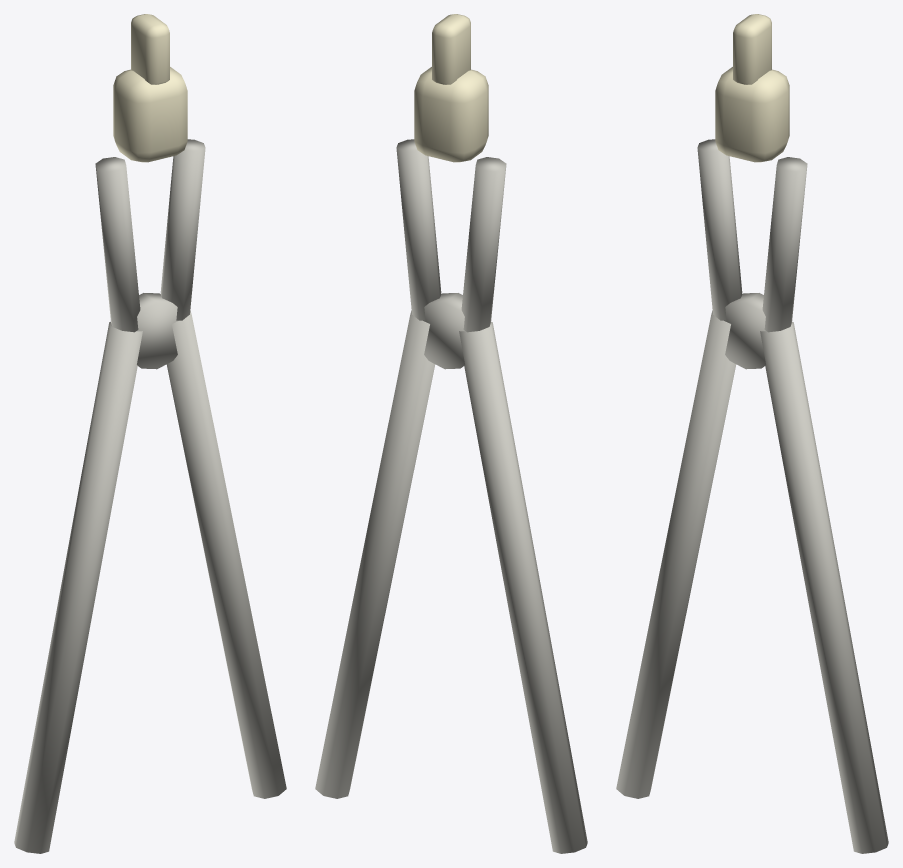
The model's file is forceps.glb.
3 renders of one model, left to right at view 1: azimuth 30°, elevation 25°; view 2: azimuth 150°, elevation 25°; view 3: azimuth 330°, elevation 25°, orthographic.
Visible parts, largest first — view 1: arm, arm.001, tooth, beak, beak.001, hinge, root; view 2: arm, arm.001, tooth, beak, beak.001, hinge, root; view 3: arm.001, arm, tooth, beak.001, beak, hinge, root.
Boxes of the visible parts, x1=… form: arm: x1=14, y1=321, x2=142, y2=853; arm.001: x1=166, y1=310, x2=286, y2=798; tooth: x1=113, y1=67, x2=187, y2=162; beak: x1=95, y1=157, x2=140, y2=332; beak.001: x1=160, y1=139, x2=205, y2=320; hinge: x1=136, y1=293, x2=178, y2=369; root: x1=131, y1=14, x2=169, y2=84; arm: x1=459, y1=321, x2=587, y2=853; arm.001: x1=315, y1=310, x2=435, y2=798; tooth: x1=414, y1=67, x2=488, y2=162; beak: x1=461, y1=157, x2=506, y2=332; beak.001: x1=396, y1=139, x2=441, y2=320; hinge: x1=423, y1=293, x2=465, y2=369; root: x1=432, y1=14, x2=470, y2=84; arm.001: x1=760, y1=321, x2=888, y2=853; arm: x1=616, y1=310, x2=736, y2=798; tooth: x1=715, y1=67, x2=789, y2=162; beak.001: x1=762, y1=157, x2=807, y2=332; beak: x1=697, y1=139, x2=742, y2=320; hinge: x1=724, y1=293, x2=766, y2=369; root: x1=733, y1=14, x2=771, y2=84.
Size of the model in its own units: 0.1357 by 0.3866 by 0.026.
